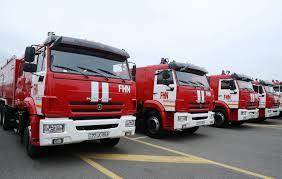Fire-engine: (0, 34, 136, 152), (136, 55, 213, 136), (212, 70, 259, 132)
